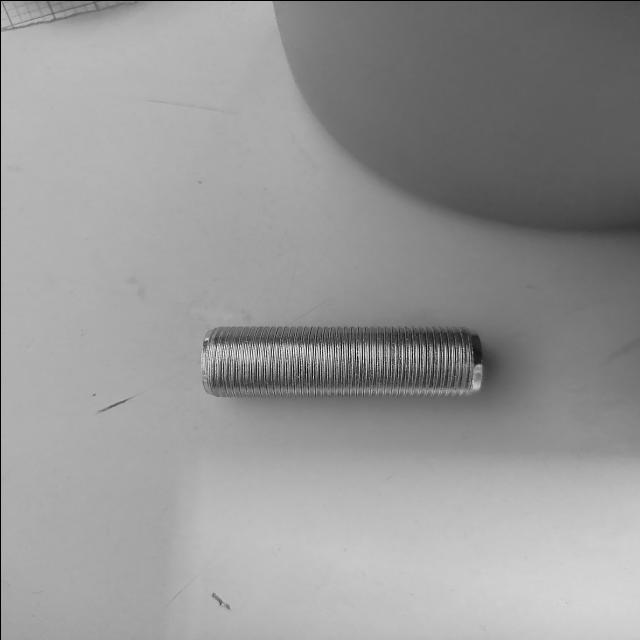Broken: (201, 325, 480, 397)
